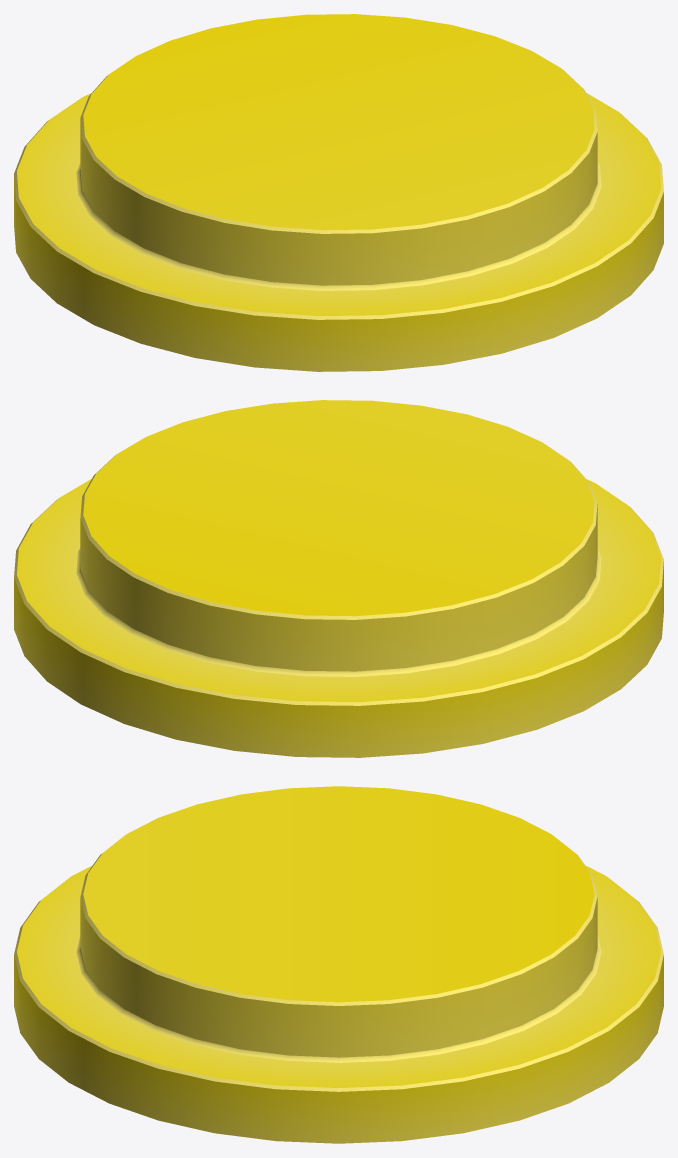
The model's file is finish-scene (1).fbx.
The picture shows the model from 3 angles, top to bottom: view 1: azimuth 30°, elevation 25°; view 2: azimuth 150°, elevation 25°; view 3: azimuth 270°, elevation 25°; orthographic projection.
Visible parts, largest first — view 1: finish-scene; view 2: finish-scene; view 3: finish-scene.
Boxes of the visible parts, left/top/right/bottom form: finish-scene: left=14, top=14, right=663, bottom=371; finish-scene: left=14, top=400, right=663, bottom=757; finish-scene: left=14, top=786, right=663, bottom=1143.
Size of the model in its own units: 2.51 by 0.4787 by 2.51.
Materials: 1 (1 with a texture image).
